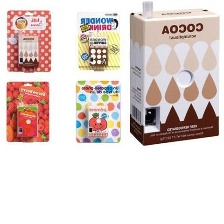carton: (126, 2, 221, 146), (15, 34, 43, 69), (14, 103, 39, 140), (85, 103, 110, 138), (87, 33, 109, 67)
